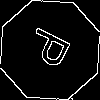P: (25, 25, 81, 74)
